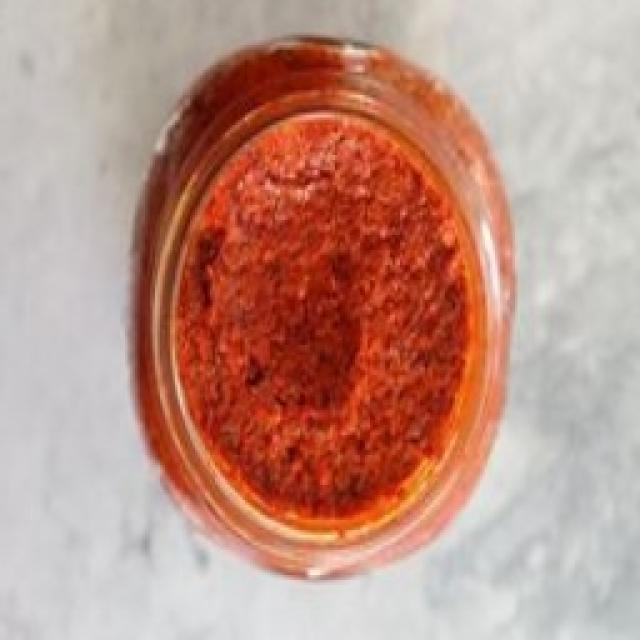Harissa: (135, 42, 512, 580)
